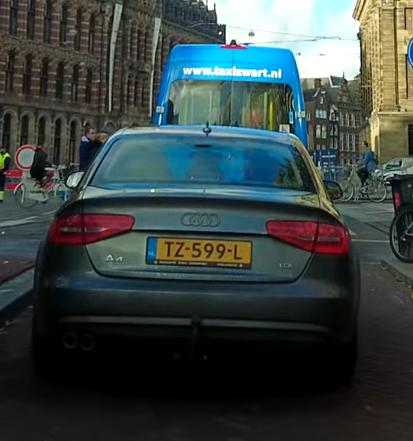license-plate: (146, 238, 254, 270)
